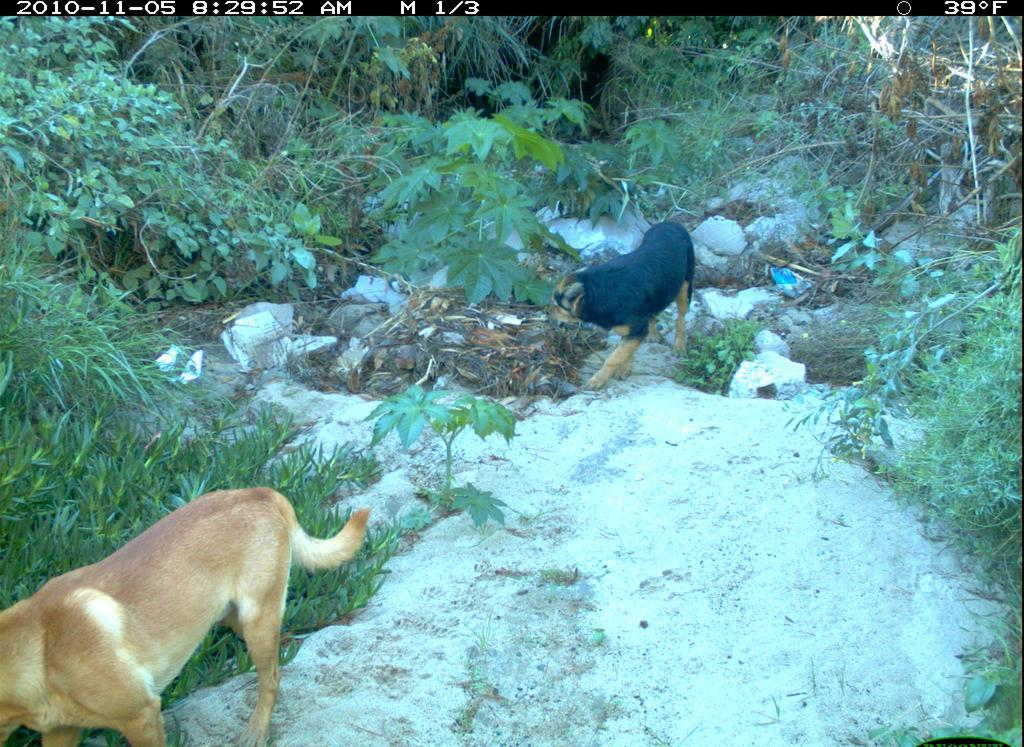dog: (6, 473, 385, 744), (545, 219, 710, 395)
